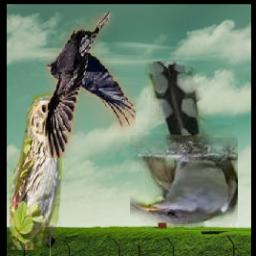Crow: (46, 12, 137, 158)
Cuckoo: (131, 62, 239, 228)
Sparrow: (11, 89, 71, 251)
